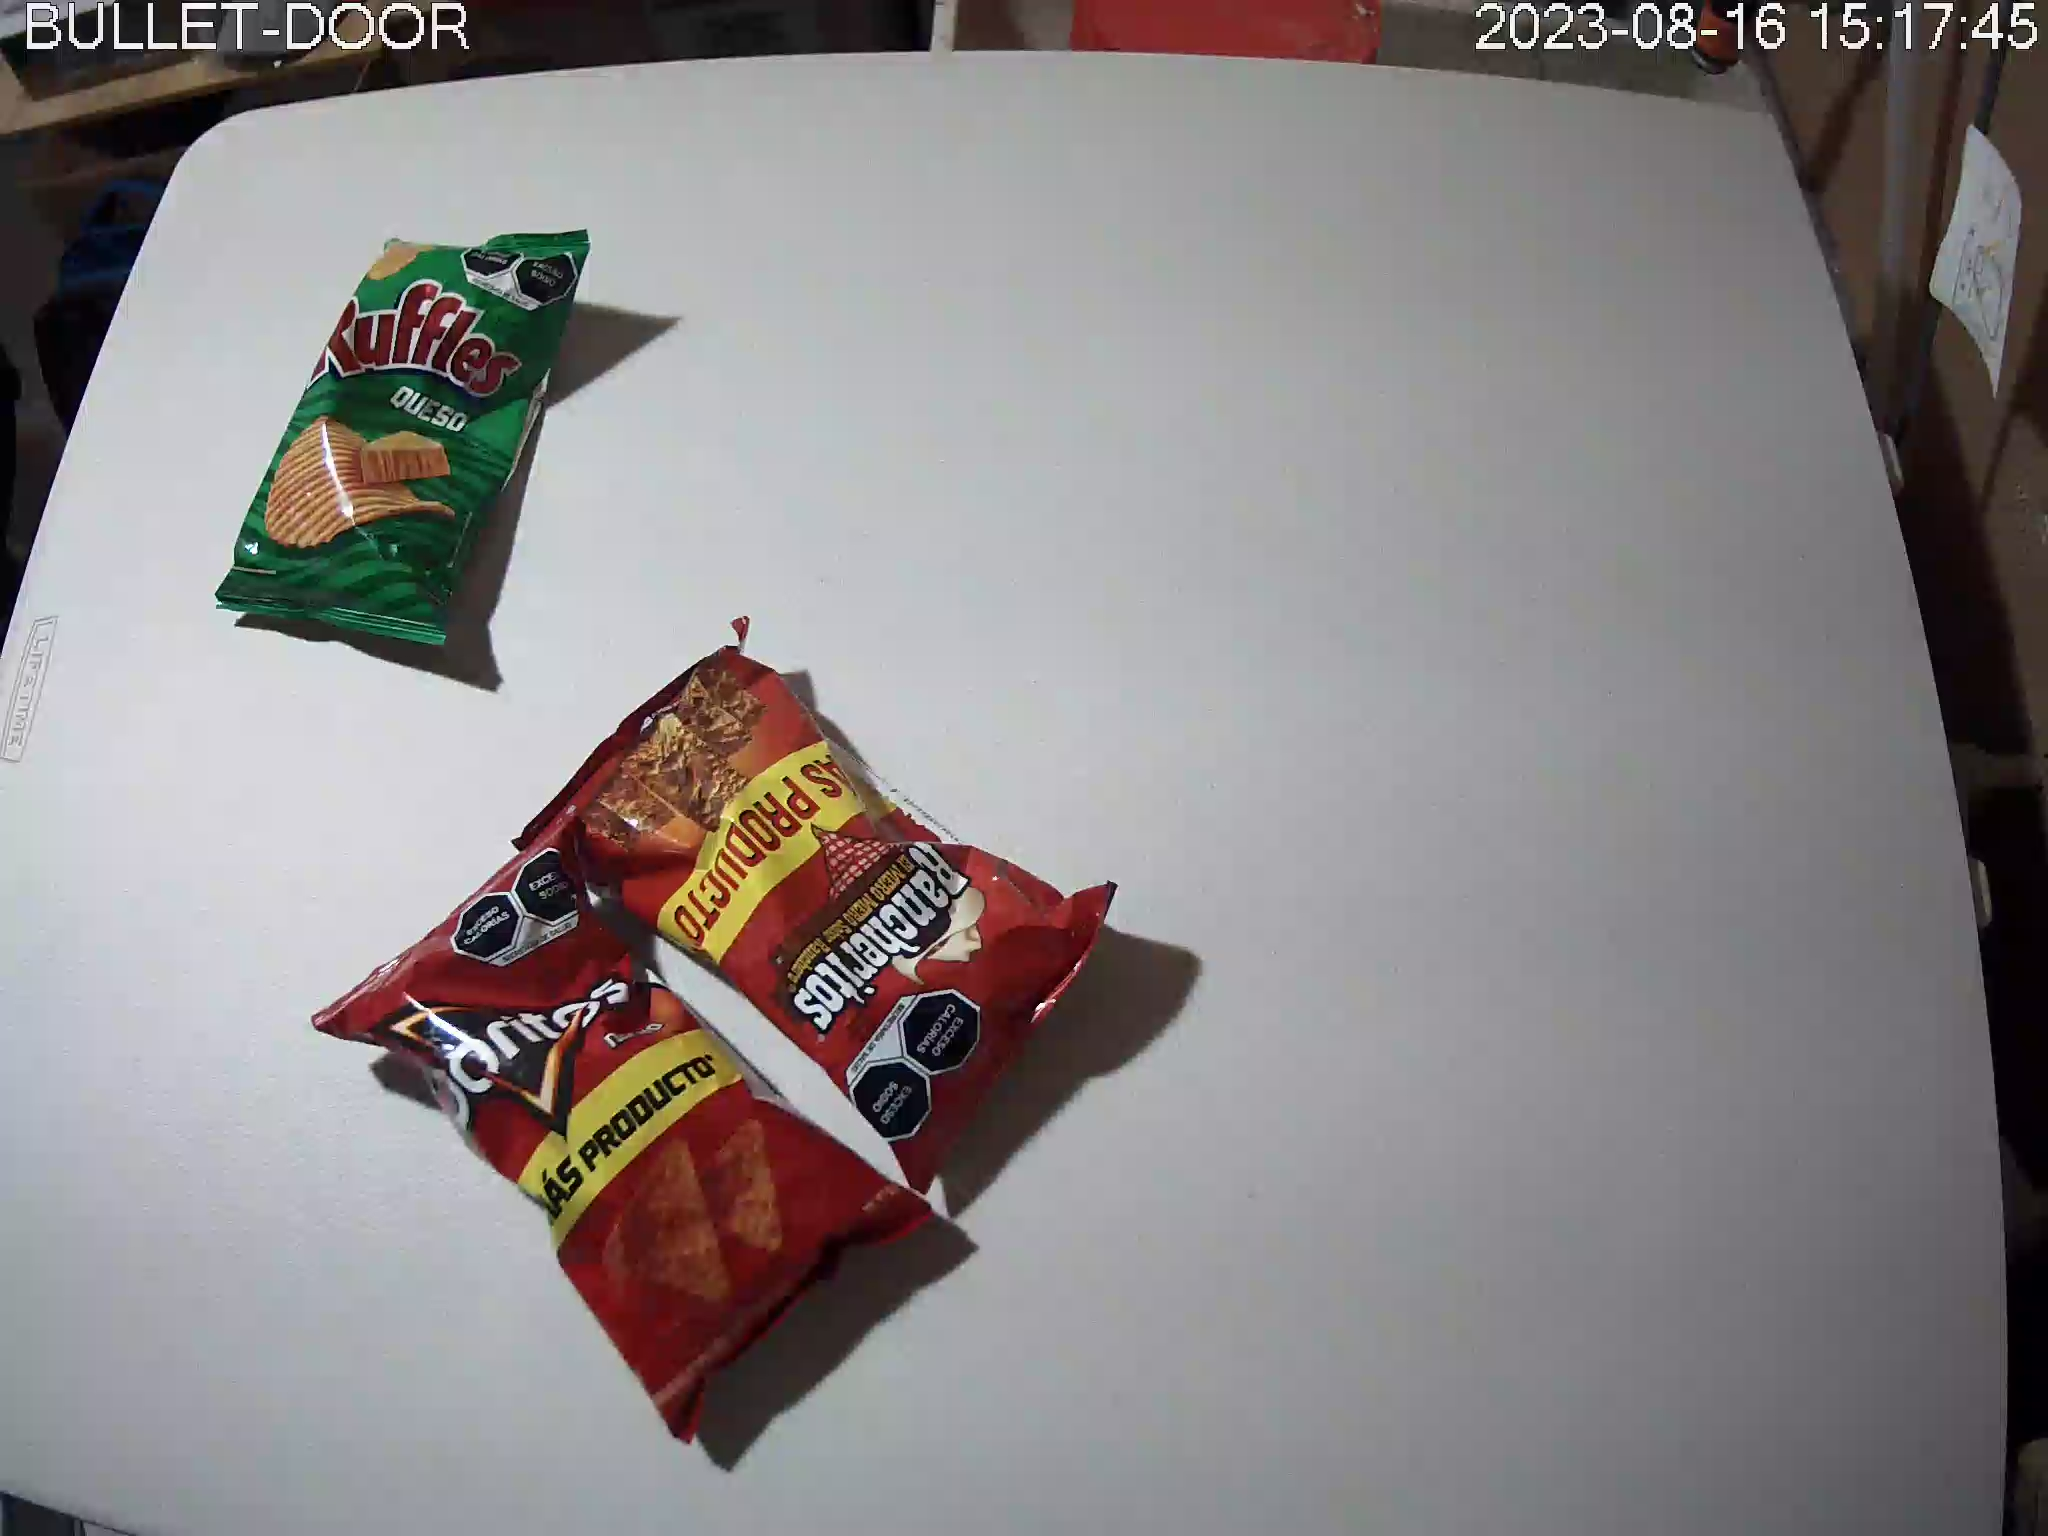DoritosN_61_F: (310, 802, 935, 1446)
Rancheritos_58_F: (513, 620, 1122, 1194)
RufflesQ_48_F: (211, 229, 590, 653)
